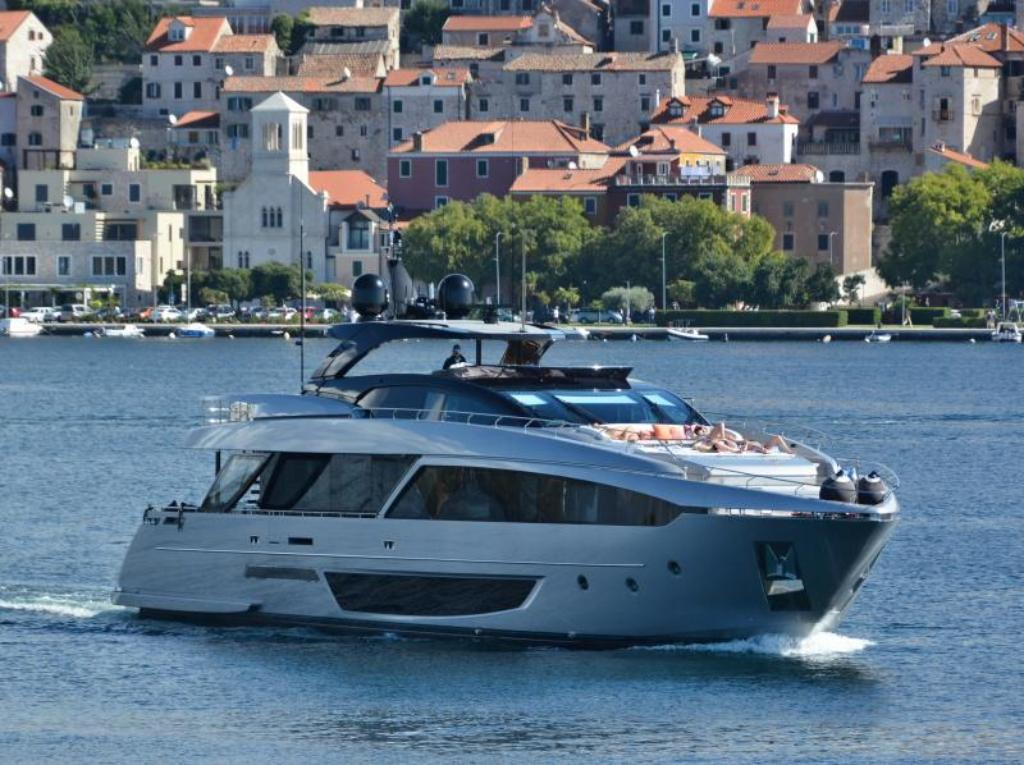PassengerShip: (106, 260, 906, 652)
